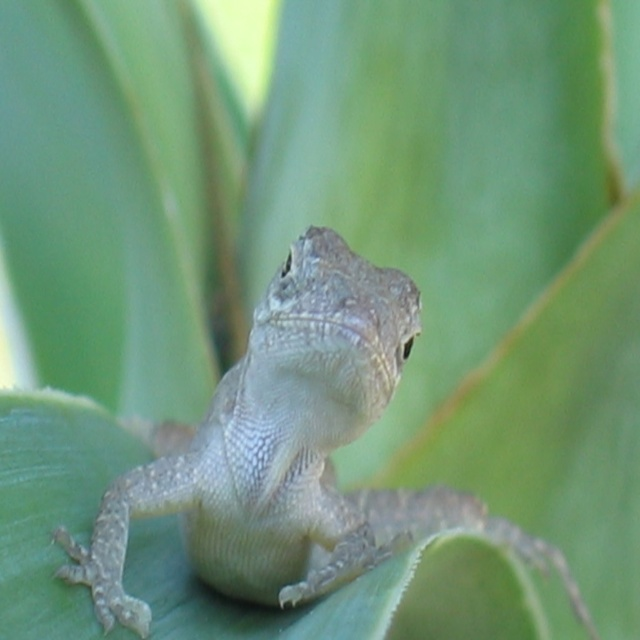Lizard: (55, 229, 592, 634)
